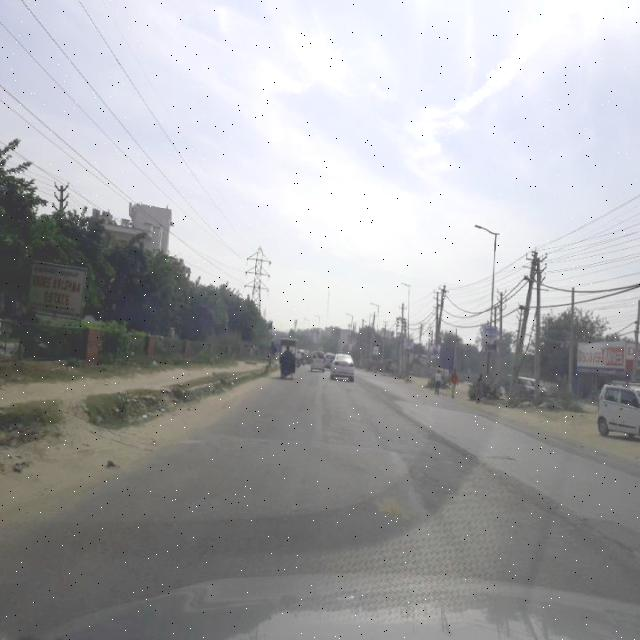D00: (500, 472, 639, 588)
